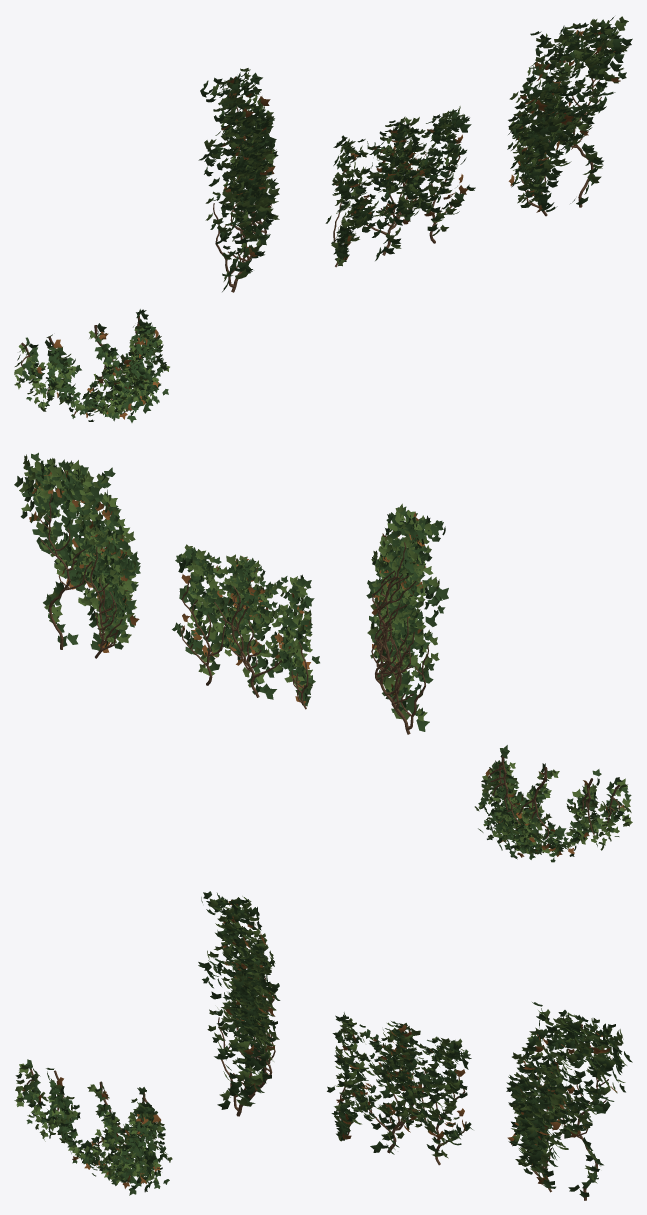
File: Lierre.fbx
3 views of the same model, one above another, from view 1: azimuth 30°, elevation 25°; view 2: azimuth 150°, elevation 25°; view 3: azimuth 330°, elevation 25° (orthographic).
Parts seen in each view (by area): view 1: Lierre1_Feuilles, Lierre2_Feuilles, Lierre3_Feuilles, Lierre1_FeuillesClaires, LierreHaut1_Feuilles, Lierre2_FeuillesClaires, Lierre3_FeuillesClaires, LierreHaut1_FeuillesClaires, Lierre2_FeuillesRousses, Lierre1_FeuillesRousses, Lierre3_Tiges, LierreHaut1_FeuillesRousses (+1 smaller); view 2: Lierre1_Feuilles, Lierre2_Feuilles, Lierre1_FeuillesClaires, Lierre3_Feuilles, Lierre2_FeuillesClaires, Lierre3_FeuillesClaires, LierreHaut1_Feuilles, LierreHaut1_FeuillesClaires, Lierre3_Tiges, Lierre2_Tiges, Lierre1_Tiges, LierreHaut1_Tiges (+2 smaller); view 3: Lierre1_Feuilles, Lierre2_Feuilles, Lierre3_Feuilles, LierreHaut1_Feuilles, Lierre1_FeuillesClaires, Lierre2_FeuillesClaires, Lierre3_FeuillesClaires, LierreHaut1_FeuillesClaires, Lierre2_FeuillesRousses, Lierre1_FeuillesRousses, Lierre3_Tiges, Lierre2_Tiges (+2 smaller).
Part boxes in pixels (x1,y1,x2,y2): Lierre1_Feuilles: (507, 16, 632, 211); Lierre2_Feuilles: (325, 108, 475, 266); Lierre3_Feuilles: (198, 71, 278, 291); Lierre1_FeuillesClaires: (509, 16, 628, 203); LierreHaut1_Feuilles: (17, 309, 168, 422); Lierre2_FeuillesClaires: (331, 106, 465, 266); Lierre3_FeuillesClaires: (204, 68, 279, 281); LierreHaut1_FeuillesClaires: (14, 325, 169, 418); Lierre2_FeuillesRousses: (333, 119, 468, 260); Lierre1_FeuillesRousses: (508, 30, 620, 212); Lierre3_Tiges: (213, 107, 268, 292); LierreHaut1_FeuillesRousses: (23, 329, 159, 419); Lierre1_Feuilles: (14, 452, 140, 650); Lierre2_Feuilles: (172, 547, 319, 706); Lierre1_FeuillesClaires: (19, 454, 138, 643); Lierre3_Feuilles: (366, 506, 448, 731); Lierre2_FeuillesClaires: (180, 544, 312, 703); Lierre3_FeuillesClaires: (367, 503, 439, 721); LierreHaut1_Feuilles: (478, 745, 631, 862); LierreHaut1_FeuillesClaires: (474, 762, 632, 854); Lierre3_Tiges: (371, 542, 428, 734); Lierre2_Tiges: (180, 580, 308, 709); Lierre1_Tiges: (38, 493, 122, 658); LierreHaut1_Tiges: (488, 756, 620, 839); Lierre1_Feuilles: (506, 1002, 632, 1197); Lierre2_Feuilles: (327, 1012, 472, 1154); Lierre3_Feuilles: (198, 891, 280, 1109); LierreHaut1_Feuilles: (15, 1059, 169, 1195); Lierre1_FeuillesClaires: (509, 1009, 626, 1183); Lierre2_FeuillesClaires: (334, 1018, 466, 1158); Lierre3_FeuillesClaires: (207, 896, 279, 1106); LierreHaut1_FeuillesClaires: (14, 1063, 172, 1184); Lierre2_FeuillesRousses: (336, 1024, 465, 1139); Lierre1_FeuillesRousses: (507, 1024, 617, 1184); Lierre3_Tiges: (218, 926, 275, 1116); Lierre2_Tiges: (338, 1069, 466, 1165).
Size of the model in its own units: 36.1 by 18.29 by 0.9122.
